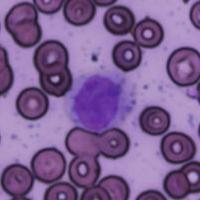M: (64, 68, 136, 132)
